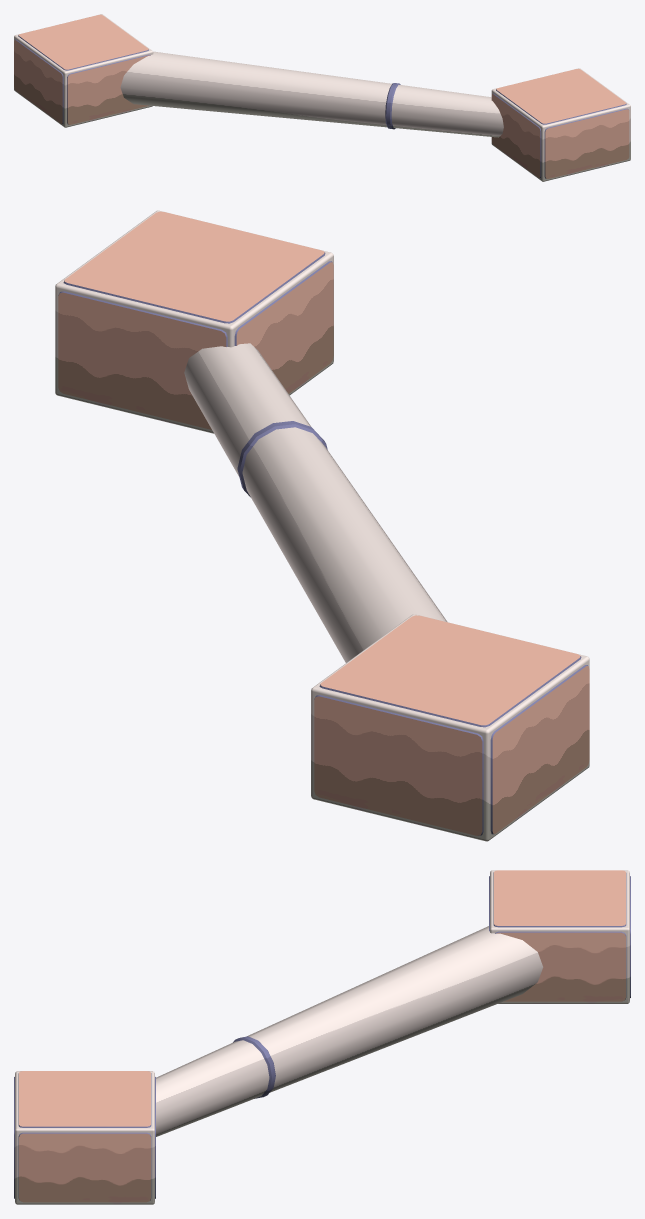
The model's file is R4C_ROD_DIAG_2D_LONG.glb.
3 views of the same model, one above another, from view 1: azimuth 30°, elevation 25°; view 2: azimuth 150°, elevation 25°; view 3: azimuth 270°, elevation 25° (orthographic). The views are drawn at different scales.
Visible parts, largest first — view 1: R4C_ROD_DIAG_2D_LONG; view 2: R4C_ROD_DIAG_2D_LONG; view 3: R4C_ROD_DIAG_2D_LONG.
Part boxes in pixels (x1,y1,x2,y2): R4C_ROD_DIAG_2D_LONG: (14,14,630,181); R4C_ROD_DIAG_2D_LONG: (55,210,589,841); R4C_ROD_DIAG_2D_LONG: (14,870,630,1204).
Bounding box in the file's own units: 1.62 × 0.226 × 1.62.
3 materials, 3 textured.
